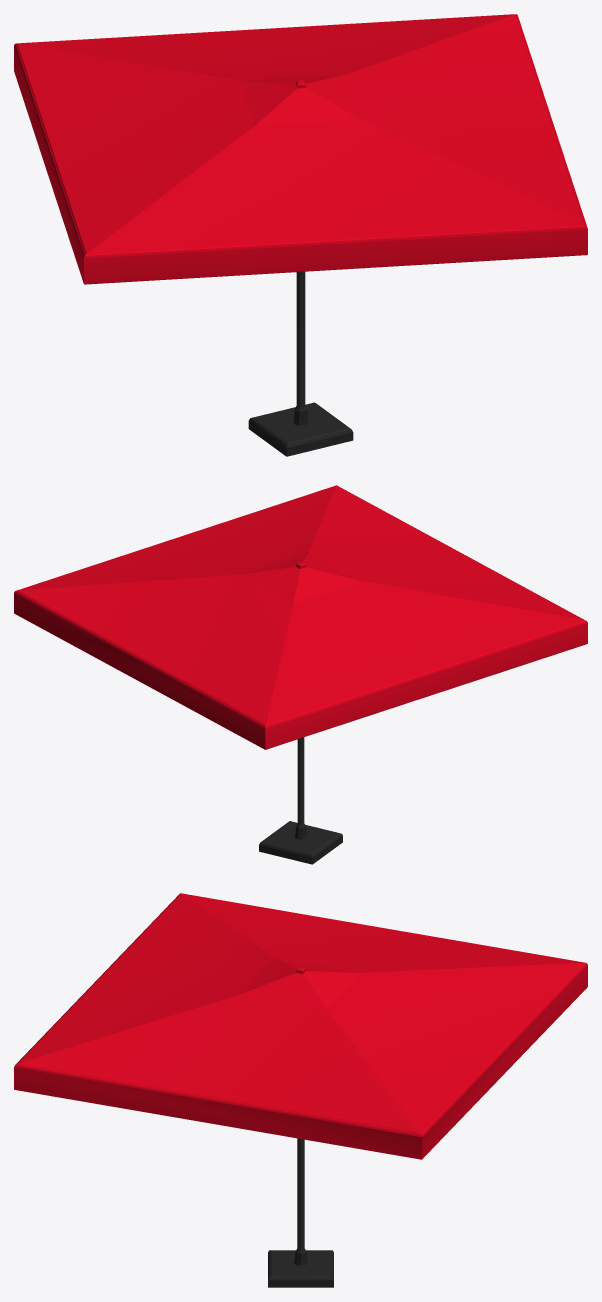
File: bg_parasol_square.fbx
The picture shows the model from 3 angles, top to bottom: view 1: azimuth 30°, elevation 25°; view 2: azimuth 150°, elevation 25°; view 3: azimuth 270°, elevation 25°; orthographic projection. The views are drawn at different scales.
Parts seen in each view (by area): view 1: SquareParasole; view 2: SquareParasole; view 3: SquareParasole.
Part boxes in pixels (<box>): SquareParasole: <box>14,14,587,456</box>; SquareParasole: <box>14,485,587,864</box>; SquareParasole: <box>14,893,587,1287</box>.
Bounding box in the file's own units: 2679 × 1573 × 2679.
